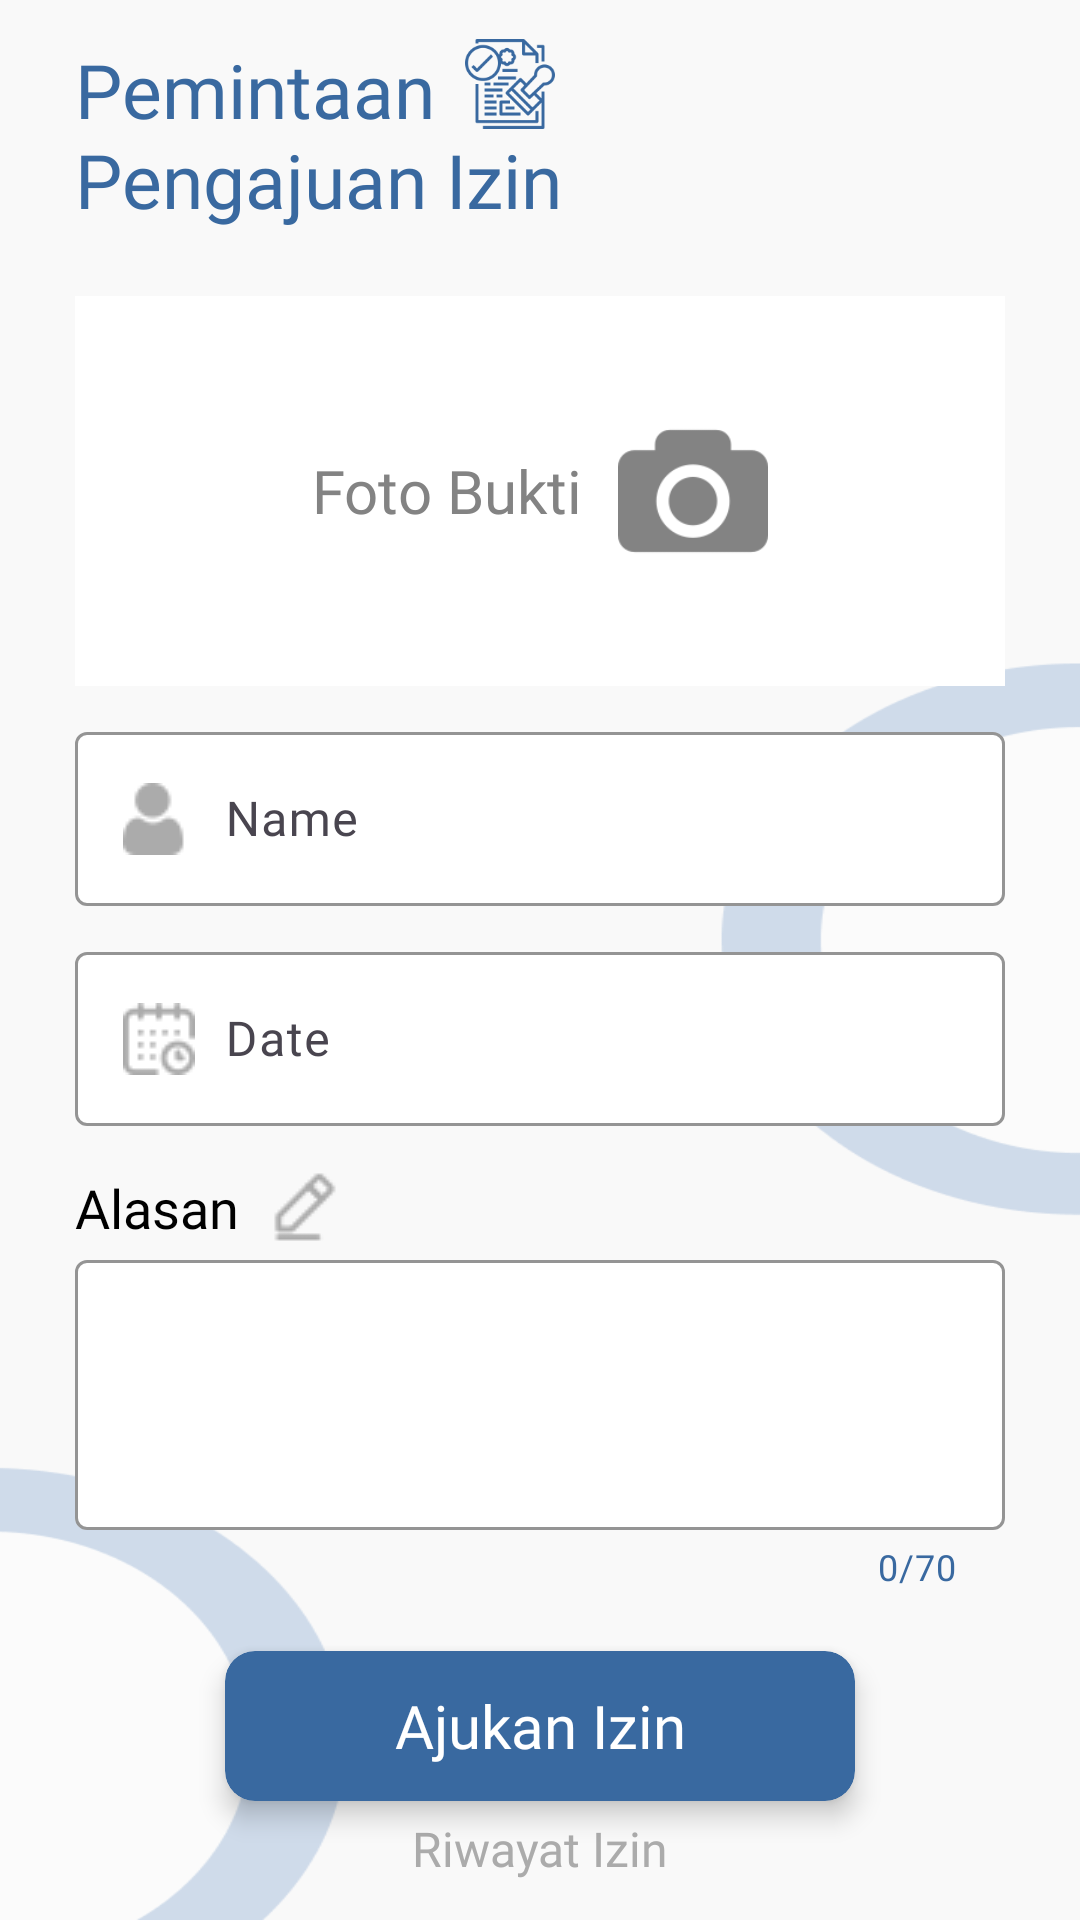

Icons on this 1080 × 1920 Android screen, each with the point to tap as (x,y):
camera: (693,491)
licensingtipisbiru: (510,84)
